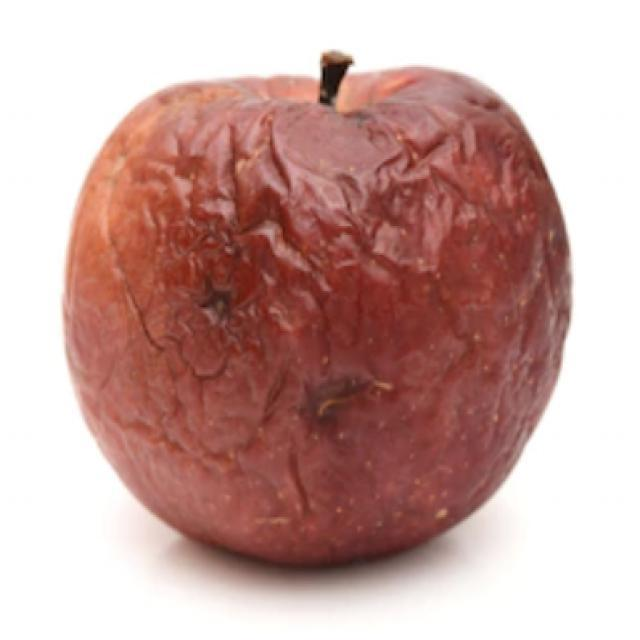Rotten: (83, 67, 595, 548)
